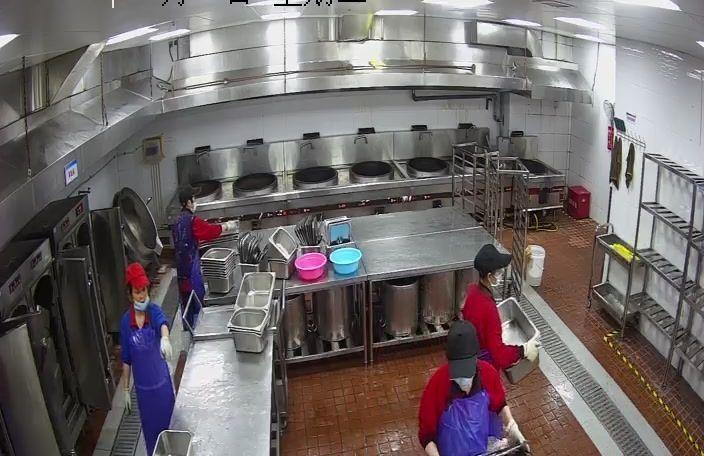mask: (132, 292, 151, 310)
